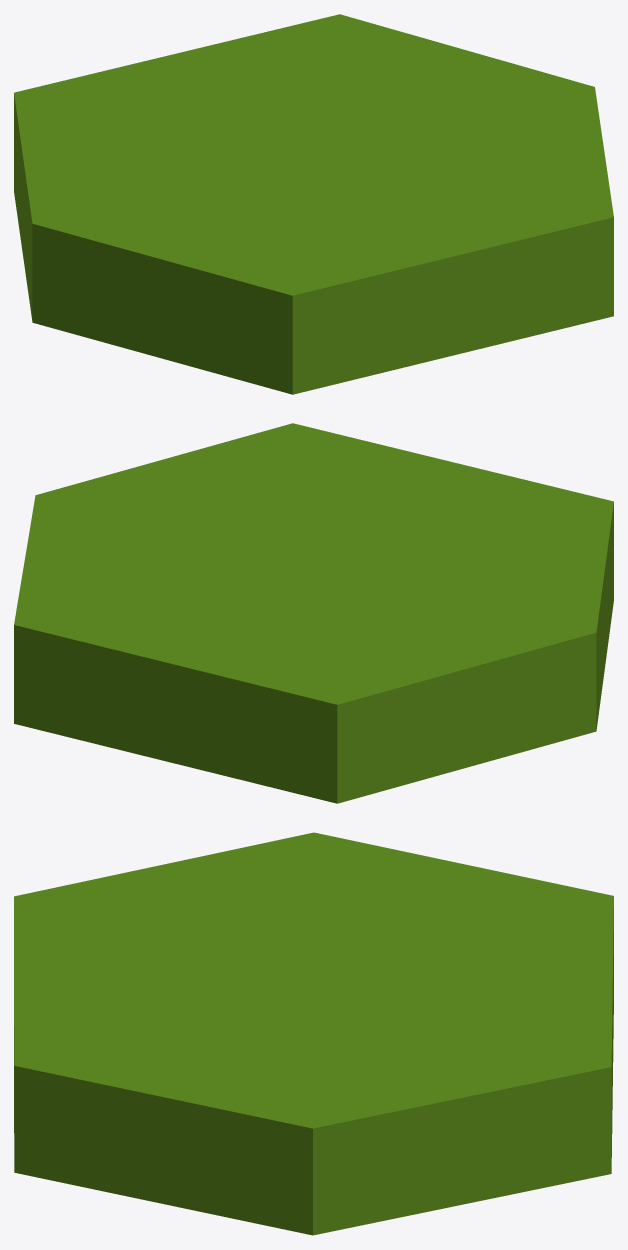
Rendered from grass.fbx.
3 views of the same model, one above another, from view 1: azimuth 30°, elevation 25°; view 2: azimuth 150°, elevation 25°; view 3: azimuth 270°, elevation 25° (orthographic). The views are drawn at different scales.
Visible parts, largest first — view 1: Cube; view 2: Cube; view 3: Cube.
Boxes of the visible parts, box(x1,y1,x2,y2) form: Cube: box(14, 14, 613, 394); Cube: box(14, 423, 613, 803); Cube: box(14, 832, 613, 1235).
Size of the model in its own units: 495 by 83.38 by 424.
